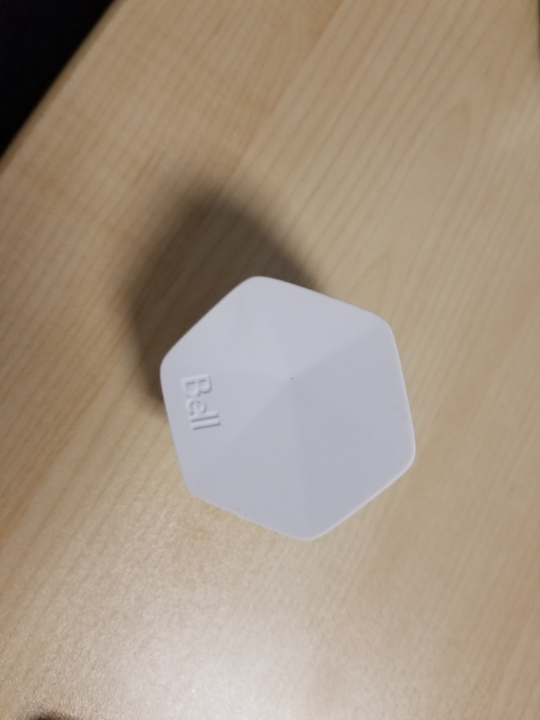pod: (151, 272, 430, 546)
